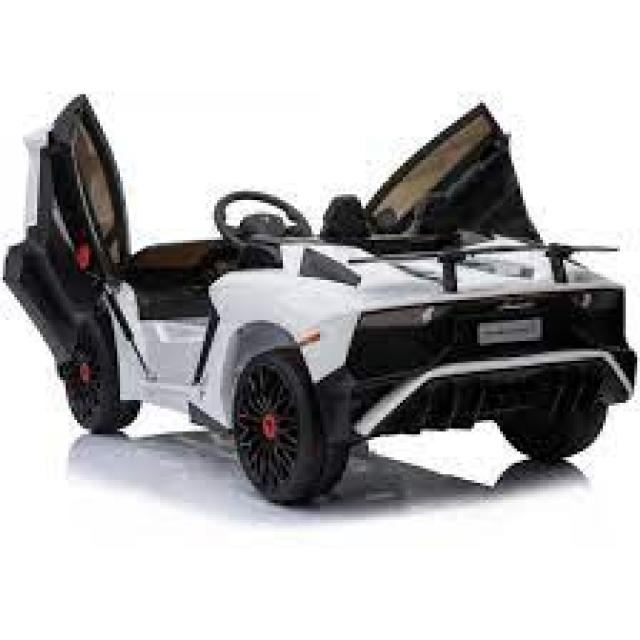Car: (3, 94, 631, 503)
